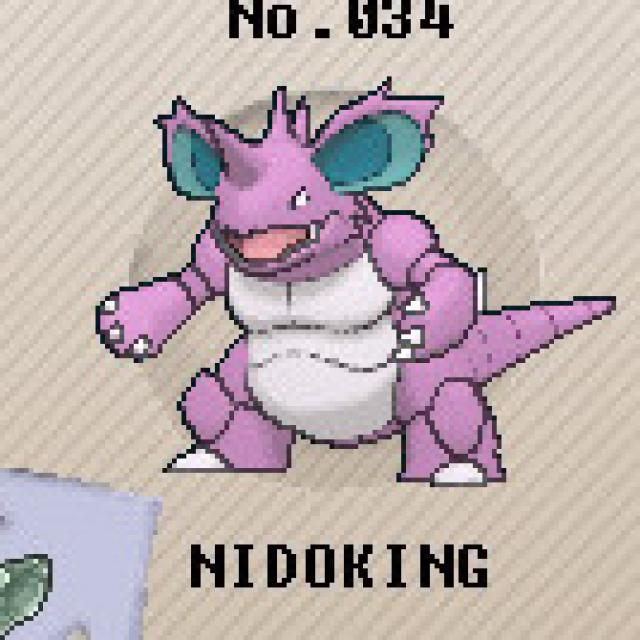Nidoking: (140, 84, 507, 483)
